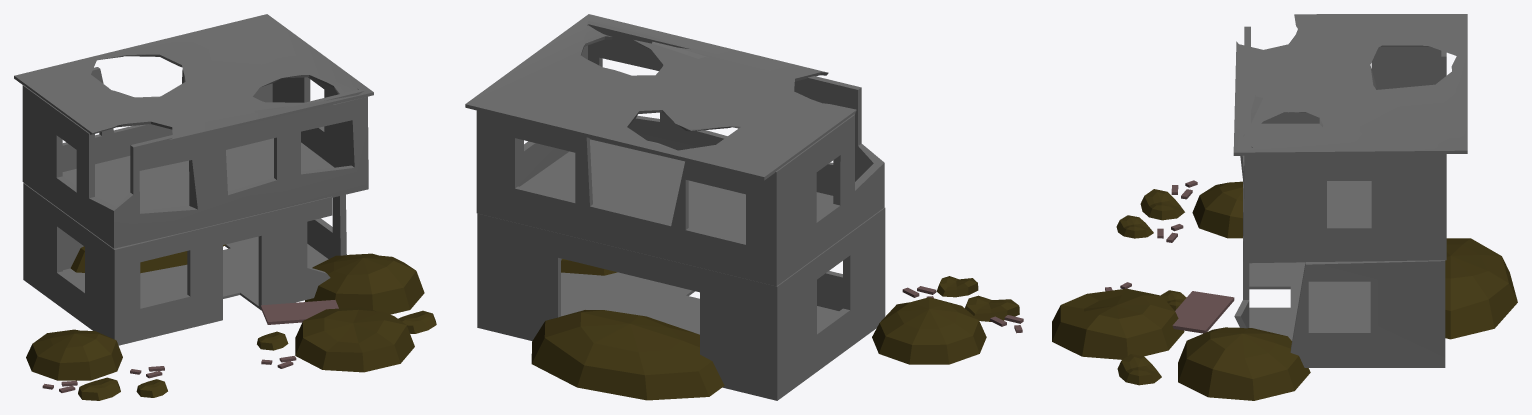
File: LargeRubble.fbx
The picture shows the model from 3 angles, left to right: view 1: azimuth 30°, elevation 25°; view 2: azimuth 150°, elevation 25°; view 3: azimuth 270°, elevation 25°; orthographic projection. The views are drawn at different scales.
Parts seen in each view (by area): view 1: BetaLevelProps3:BetaLevelProps3:polySurface7, BetaLevelProps3:BetaLevelProps3:polySurface6, BetaLevelProps3:BetaLevelProps3:polySurface8, BetaLevelProps3:BetaLevelProps3:pSphere10, BetaLevelProps3:BetaLevelProps3:pSphere9, BetaLevelProps3:BetaLevelProps3:pSphere12, BetaLevelProps3:BetaLevelProps3:pCube68, BetaLevelProps3:BetaLevelProps3:pSphere11, BetaLevelProps3:BetaLevelProps3:pSphere13, BetaLevelProps3:BetaLevelProps3:pSphere16, BetaLevelProps3:BetaLevelProps3:pSphere15, BetaLevelProps3:BetaLevelProps3:pSphere14; view 2: BetaLevelProps3:BetaLevelProps3:polySurface7, BetaLevelProps3:BetaLevelProps3:polySurface6, BetaLevelProps3:BetaLevelProps3:polySurface8, BetaLevelProps3:BetaLevelProps3:pSphere11, BetaLevelProps3:BetaLevelProps3:pSphere12, BetaLevelProps3:BetaLevelProps3:pSphere13, BetaLevelProps3:BetaLevelProps3:pSphere14, BetaLevelProps3:BetaLevelProps3:pSphere9; view 3: BetaLevelProps3:BetaLevelProps3:polySurface7, BetaLevelProps3:BetaLevelProps3:polySurface8, BetaLevelProps3:BetaLevelProps3:polySurface6, BetaLevelProps3:BetaLevelProps3:pSphere9, BetaLevelProps3:BetaLevelProps3:pSphere10, BetaLevelProps3:BetaLevelProps3:pSphere11, BetaLevelProps3:BetaLevelProps3:pSphere12, BetaLevelProps3:BetaLevelProps3:pCube68, BetaLevelProps3:BetaLevelProps3:pSphere13, BetaLevelProps3:BetaLevelProps3:pSphere16, BetaLevelProps3:BetaLevelProps3:pSphere14.
Part boxes in pixels (box(x1,y1,x2,y2)): BetaLevelProps3:BetaLevelProps3:polySurface7: box(22, 67, 368, 248); BetaLevelProps3:BetaLevelProps3:polySurface6: box(23, 183, 346, 345); BetaLevelProps3:BetaLevelProps3:polySurface8: box(14, 14, 373, 142); BetaLevelProps3:BetaLevelProps3:pSphere10: box(295, 307, 414, 372); BetaLevelProps3:BetaLevelProps3:pSphere9: box(305, 253, 424, 314); BetaLevelProps3:BetaLevelProps3:pSphere12: box(26, 329, 122, 380); BetaLevelProps3:BetaLevelProps3:pCube68: box(261, 300, 338, 324); BetaLevelProps3:BetaLevelProps3:pSphere11: box(70, 244, 226, 273); BetaLevelProps3:BetaLevelProps3:pSphere13: box(78, 377, 120, 400); BetaLevelProps3:BetaLevelProps3:pSphere16: box(398, 310, 436, 333); BetaLevelProps3:BetaLevelProps3:pSphere15: box(257, 331, 288, 350); BetaLevelProps3:BetaLevelProps3:pSphere14: box(136, 379, 167, 397); BetaLevelProps3:BetaLevelProps3:polySurface7: box(476, 21, 884, 286); BetaLevelProps3:BetaLevelProps3:polySurface6: box(477, 207, 885, 400); BetaLevelProps3:BetaLevelProps3:polySurface8: box(465, 14, 856, 180); BetaLevelProps3:BetaLevelProps3:pSphere11: box(531, 310, 724, 400); BetaLevelProps3:BetaLevelProps3:pSphere12: box(872, 297, 986, 364); BetaLevelProps3:BetaLevelProps3:pSphere13: box(965, 295, 1019, 321); BetaLevelProps3:BetaLevelProps3:pSphere14: box(936, 276, 978, 297); BetaLevelProps3:BetaLevelProps3:pSphere9: box(561, 259, 616, 275); BetaLevelProps3:BetaLevelProps3:polySurface7: box(1240, 26, 1446, 263); BetaLevelProps3:BetaLevelProps3:polySurface8: box(1233, 14, 1467, 155); BetaLevelProps3:BetaLevelProps3:polySurface6: box(1234, 181, 1445, 367); BetaLevelProps3:BetaLevelProps3:pSphere9: box(1178, 327, 1310, 400); BetaLevelProps3:BetaLevelProps3:pSphere10: box(1052, 288, 1184, 359); BetaLevelProps3:BetaLevelProps3:pSphere11: box(1445, 238, 1517, 339); BetaLevelProps3:BetaLevelProps3:pSphere12: box(1192, 181, 1242, 238); BetaLevelProps3:BetaLevelProps3:pCube68: box(1172, 291, 1234, 333); BetaLevelProps3:BetaLevelProps3:pSphere13: box(1140, 189, 1184, 220); BetaLevelProps3:BetaLevelProps3:pSphere16: box(1117, 354, 1161, 385); BetaLevelProps3:BetaLevelProps3:pSphere14: box(1116, 215, 1153, 238).
Bounding box in the file's own units: 142 × 69.73 × 131.
